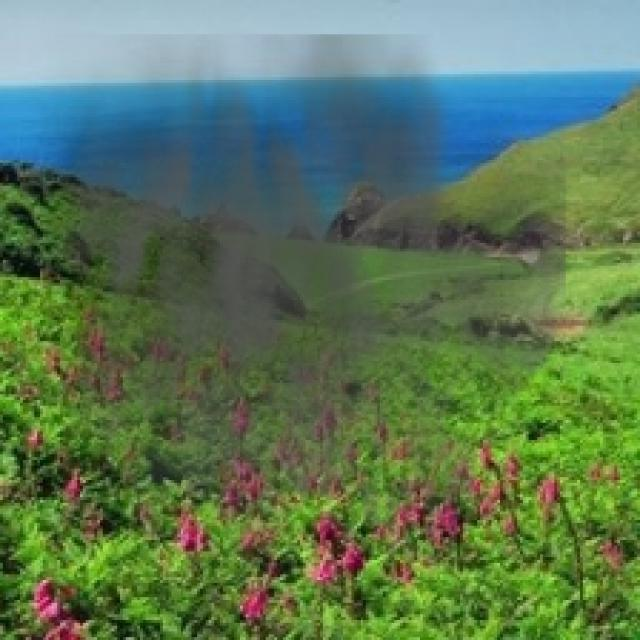smoke: (20, 34, 566, 594)
